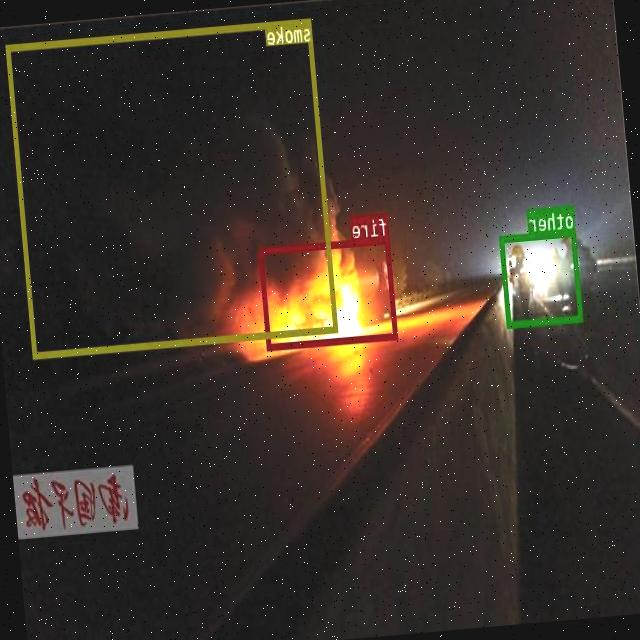fire: (259, 236, 398, 350)
smoke: (6, 16, 339, 358)
